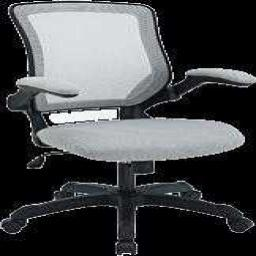Chair: (2, 1, 256, 256)
